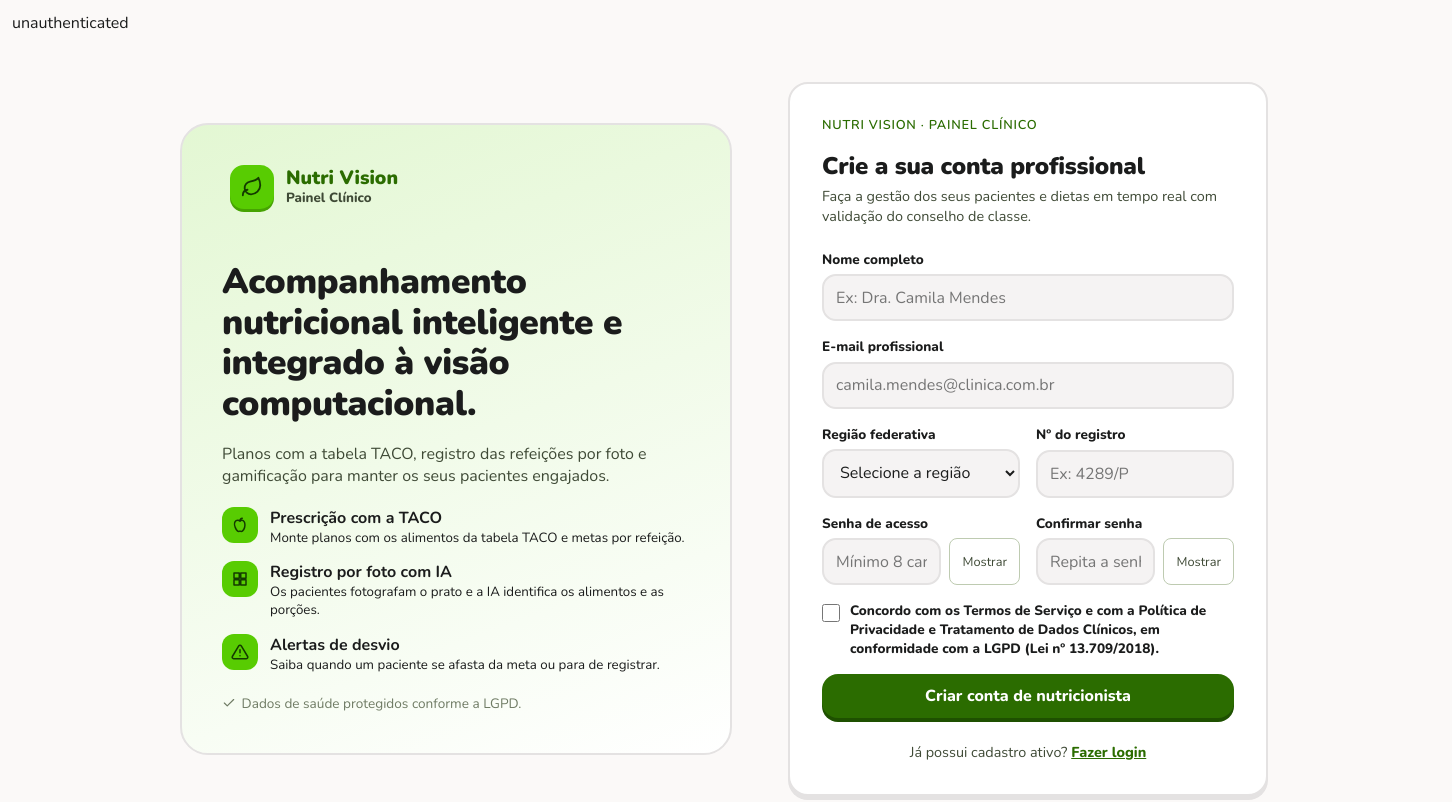
RegisterPage › senhas diferentes e senha curta
Type "1234567" into the password field labelled "Senha de acesso" at point(882, 562), box [822,538,942,585]
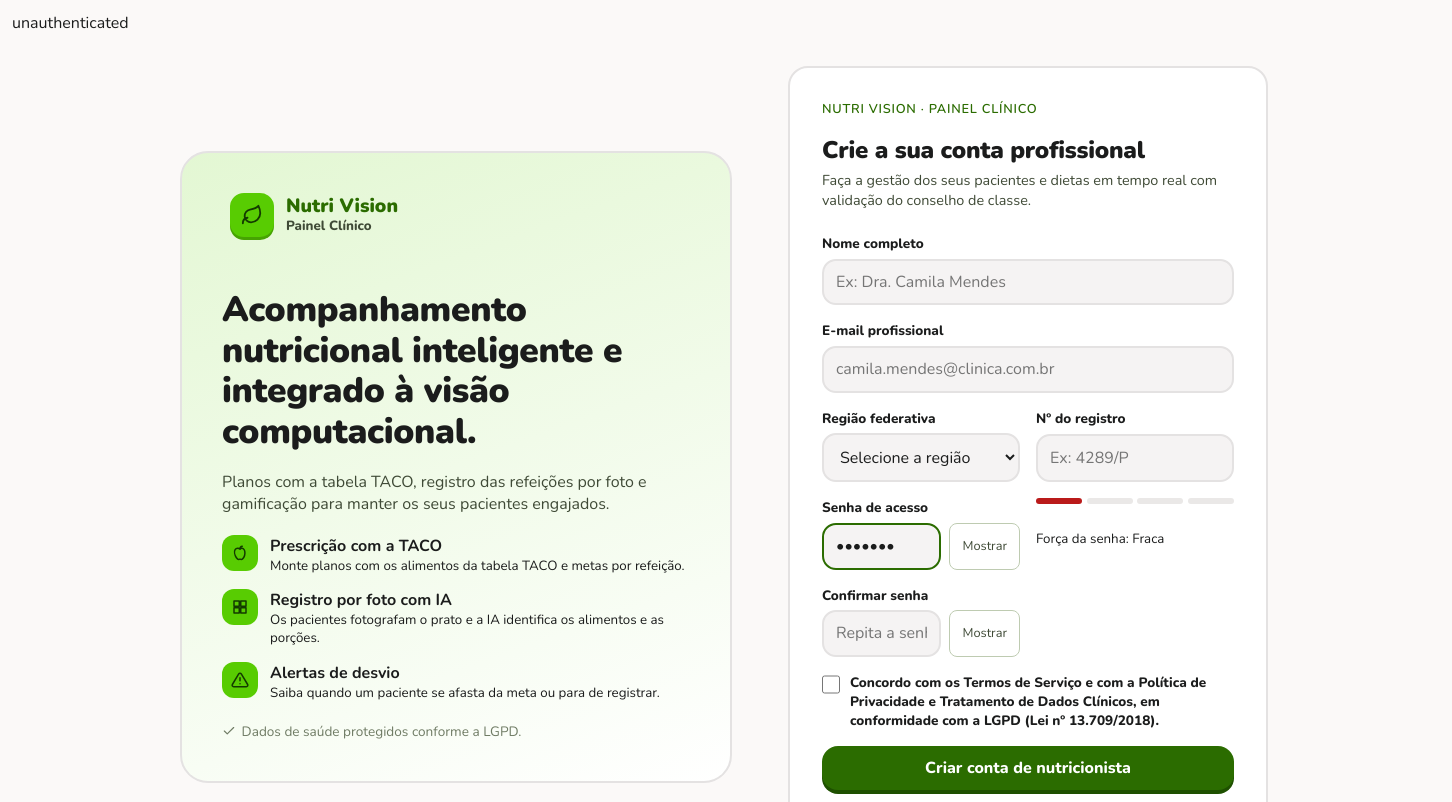
Type "7654321" into the password field labelled "Confirmar senha" at point(882, 634), box [822,610,942,657]
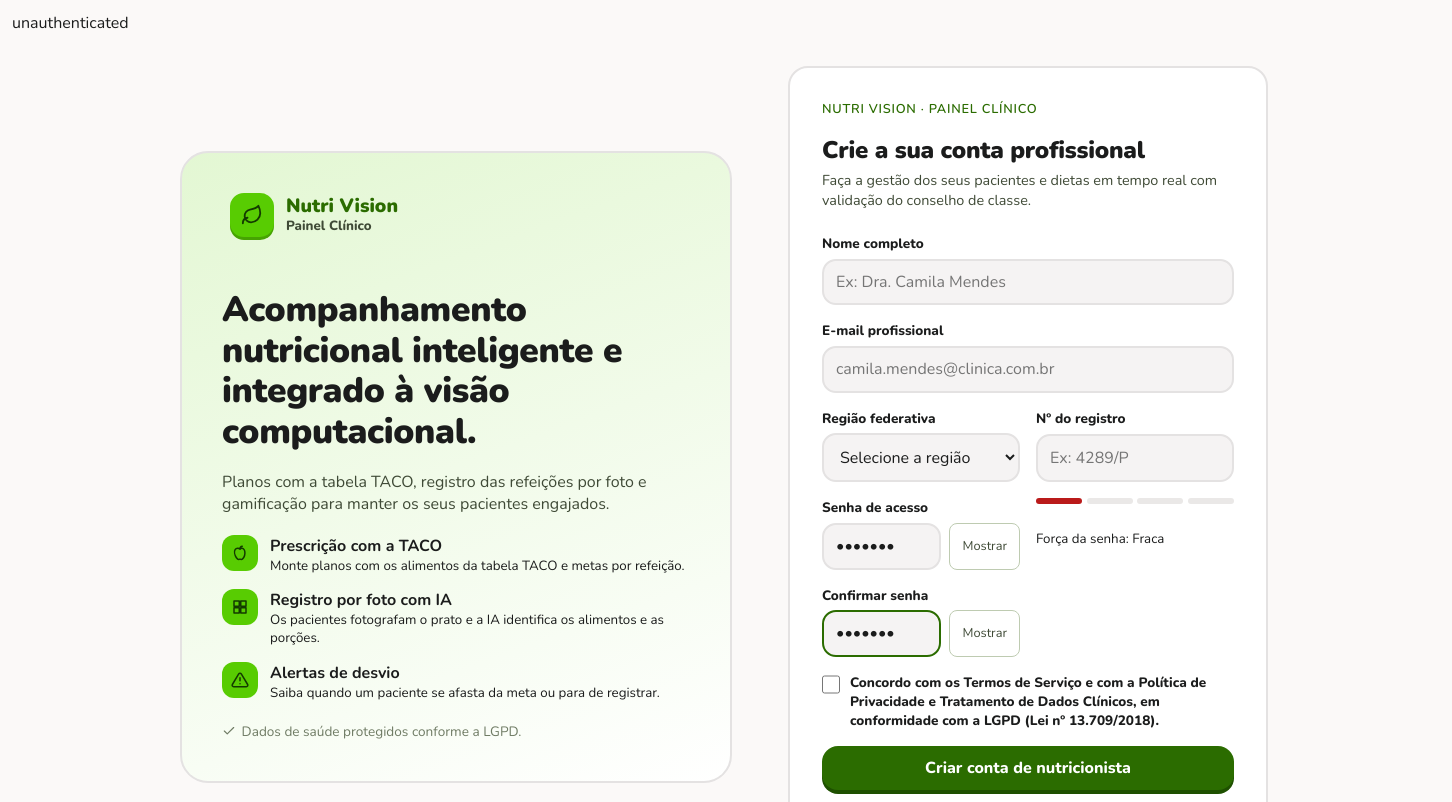
Click the button "Criar conta de nutricionista" at point(1028, 768), box [822,746,1234,790]
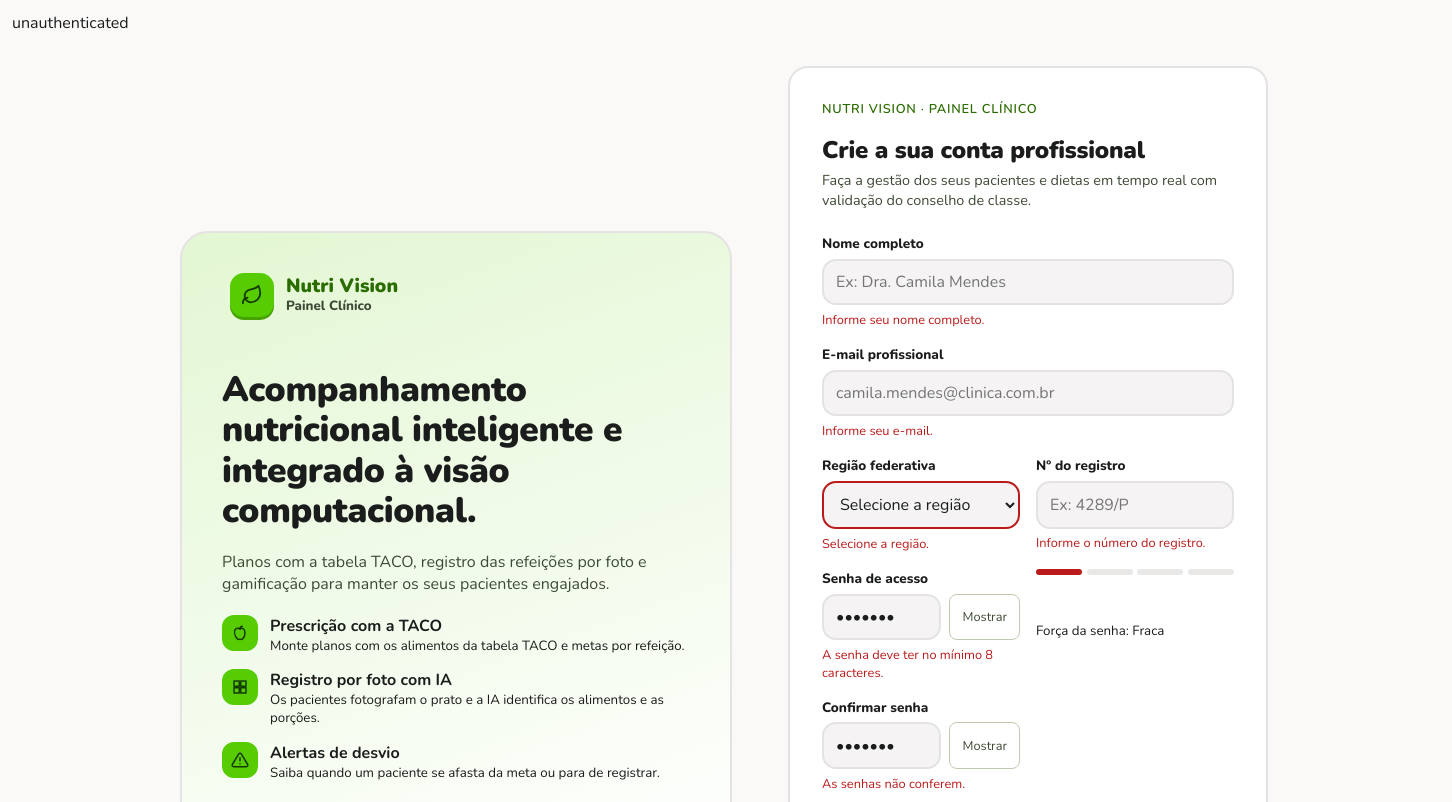
Expected: the text "A senha deve ter no mínimo 8 caracteres." is shown, [822,646,1020,682]
Expected: the text "As senhas não conferem." is shown, [822,775,965,793]
